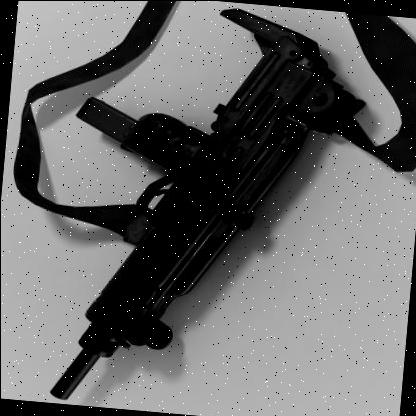rifle: (31, 0, 370, 412)
